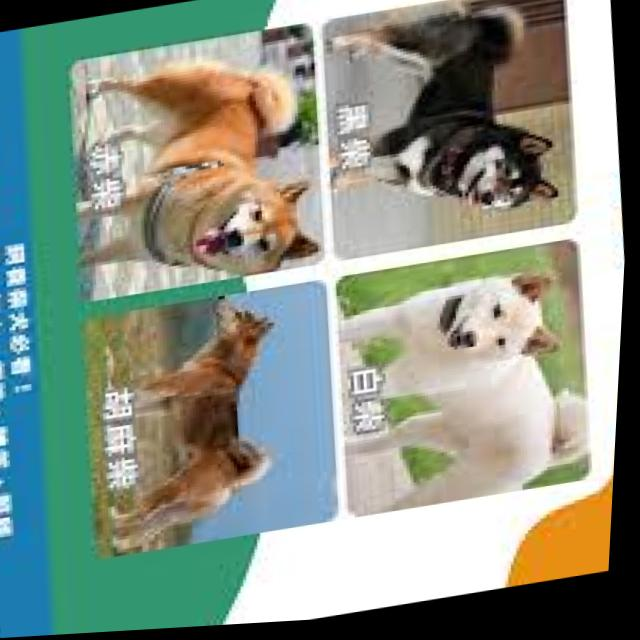Shiba-Inu: (62, 47, 333, 305), (335, 272, 606, 524), (316, 4, 570, 244), (77, 294, 301, 559)
